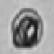correct: (11, 6, 45, 50)
